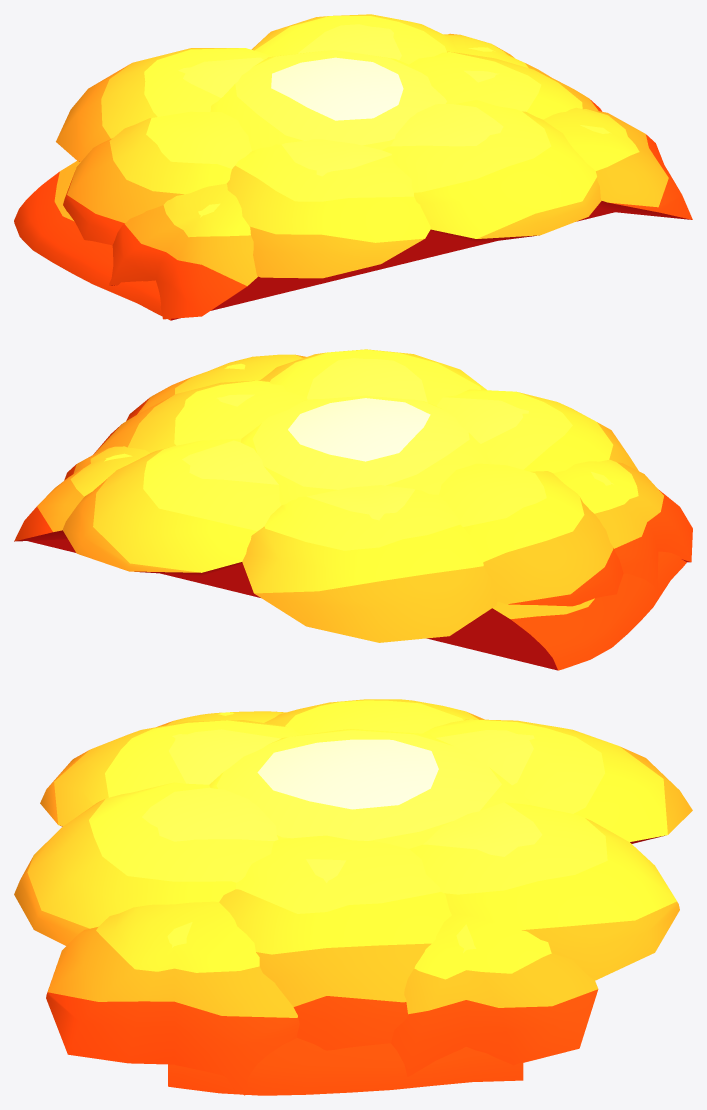
File: shot_plasmastorm_23.glb
The picture shows the model from 3 angles, top to bottom: view 1: azimuth 30°, elevation 25°; view 2: azimuth 150°, elevation 25°; view 3: azimuth 270°, elevation 25°; orthographic projection. The views are drawn at different scales.
Visible parts, largest first — view 1: plasmastorm_billow1_o23, plasmastorm_billow3_o23, plasmastorm_billow0_o23, plasmastorm_billow6_o23, plasmastorm_billow12_o23, plasmastorm_billow4_o23, plasmastorm_bed_o23, plasmastorm_billow13_o23, plasmastorm_billow5_o23, plasmastorm_billow2_o23, plasmastorm_billow11_o23; view 2: plasmastorm_billow4_o23, plasmastorm_billow2_o23, plasmastorm_billow0_o23, plasmastorm_billow6_o23, plasmastorm_bed_o23, plasmastorm_billow3_o23, plasmastorm_billow12_o23, plasmastorm_billow5_o23, plasmastorm_billow1_o23, plasmastorm_billow11_o23, plasmastorm_billow13_o23; view 3: plasmastorm_billow13_o23, plasmastorm_billow5_o23, plasmastorm_billow2_o23, plasmastorm_billow1_o23, plasmastorm_billow0_o23, plasmastorm_billow11_o23, plasmastorm_billow4_o23, plasmastorm_billow3_o23, plasmastorm_bed_o23, plasmastorm_billow6_o23, plasmastorm_billow12_o23.
Part boxes in pixels (bbox=[...]): plasmastorm_billow1_o23: bbox=[382, 100, 601, 243]; plasmastorm_billow3_o23: bbox=[226, 139, 430, 278]; plasmastorm_billow0_o23: bbox=[210, 50, 449, 150]; plasmastorm_billow6_o23: bbox=[63, 111, 251, 245]; plasmastorm_billow12_o23: bbox=[109, 183, 257, 319]; plasmastorm_billow4_o23: bbox=[56, 48, 271, 161]; plasmastorm_bed_o23: bbox=[14, 161, 614, 320]; plasmastorm_billow13_o23: bbox=[543, 107, 692, 219]; plasmastorm_billow5_o23: bbox=[409, 51, 601, 119]; plasmastorm_billow2_o23: bbox=[251, 14, 461, 64]; plasmastorm_billow11_o23: bbox=[444, 33, 549, 76]; plasmastorm_billow4_o23: bbox=[242, 485, 497, 642]; plasmastorm_billow2_o23: bbox=[63, 438, 281, 575]; plasmastorm_billow0_o23: bbox=[241, 395, 491, 505]; plasmastorm_billow6_o23: bbox=[439, 463, 623, 606]; plasmastorm_bed_o23: bbox=[28, 539, 686, 670]; plasmastorm_billow3_o23: bbox=[436, 389, 638, 473]; plasmastorm_billow12_o23: bbox=[553, 459, 692, 592]; plasmastorm_billow5_o23: bbox=[93, 380, 307, 454]; plasmastorm_billow1_o23: bbox=[260, 349, 486, 405]; plasmastorm_billow11_o23: bbox=[14, 446, 149, 541]; plasmastorm_billow13_o23: bbox=[126, 354, 305, 420]; plasmastorm_billow13_o23: bbox=[46, 901, 299, 1095]; plasmastorm_billow5_o23: bbox=[219, 835, 451, 1050]; plasmastorm_billow2_o23: bbox=[409, 802, 679, 980]; plasmastorm_billow1_o23: bbox=[14, 782, 278, 945]; plasmastorm_billow0_o23: bbox=[209, 729, 530, 848]; plasmastorm_billow11_o23: bbox=[391, 915, 598, 1076]; plasmastorm_billow4_o23: bbox=[423, 719, 692, 843]; plasmastorm_billow3_o23: bbox=[40, 720, 301, 826]; plasmastorm_bed_o23: bbox=[168, 1038, 523, 1095]; plasmastorm_billow6_o23: bbox=[264, 699, 484, 734]; plasmastorm_billow12_o23: bbox=[157, 711, 285, 726].
Bounding box in the file's own units: 63.4 × 13.78 × 53.5.
